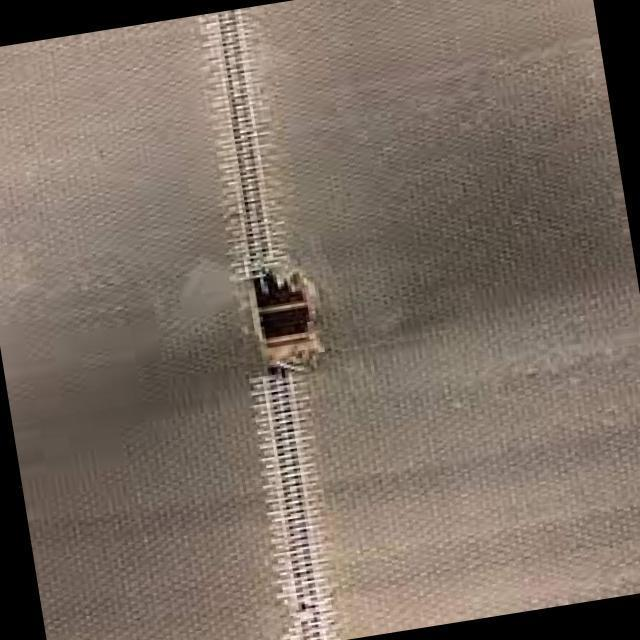Hole: (230, 255, 336, 382)
